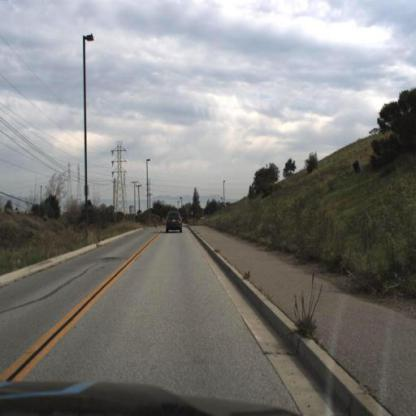car: (166, 210, 185, 237)
